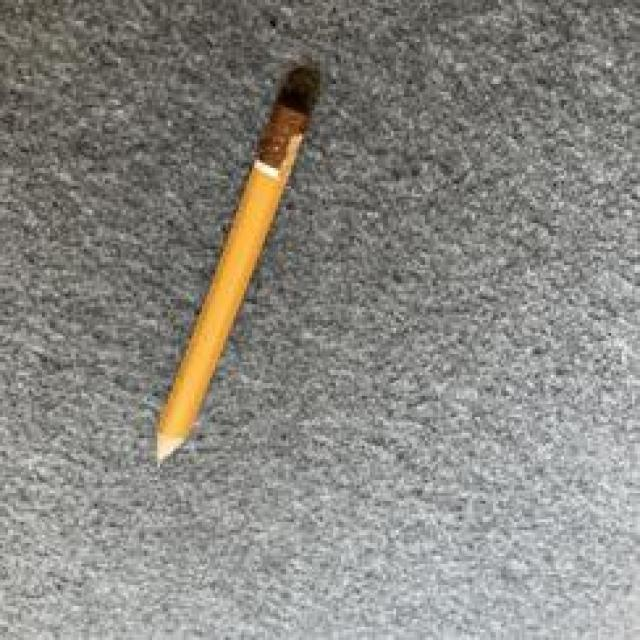pencil: (155, 61, 328, 464)
